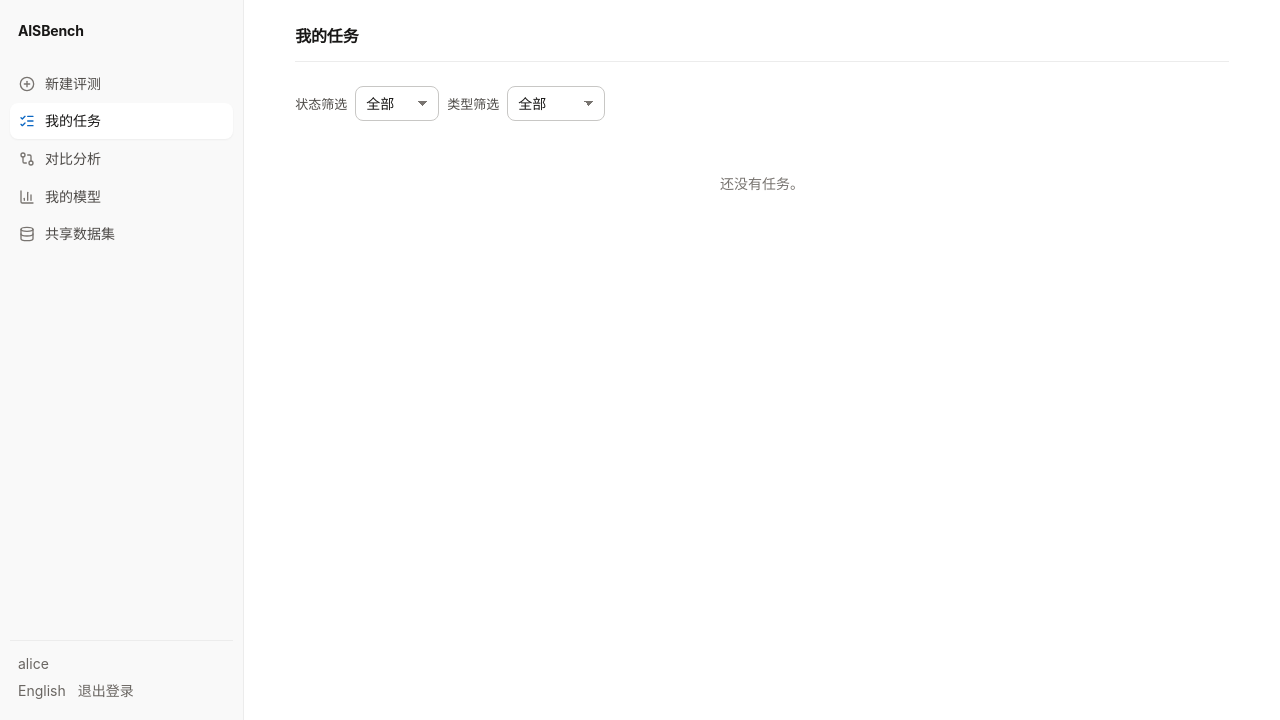
language › starts in Chinese and switches to English
This screenshot has width=1280, height=720.
Expected: the link "新建评测" is shown, [19,75,101,92]
Click the button "English".
click(42, 691)  # box [18,680,66,702]
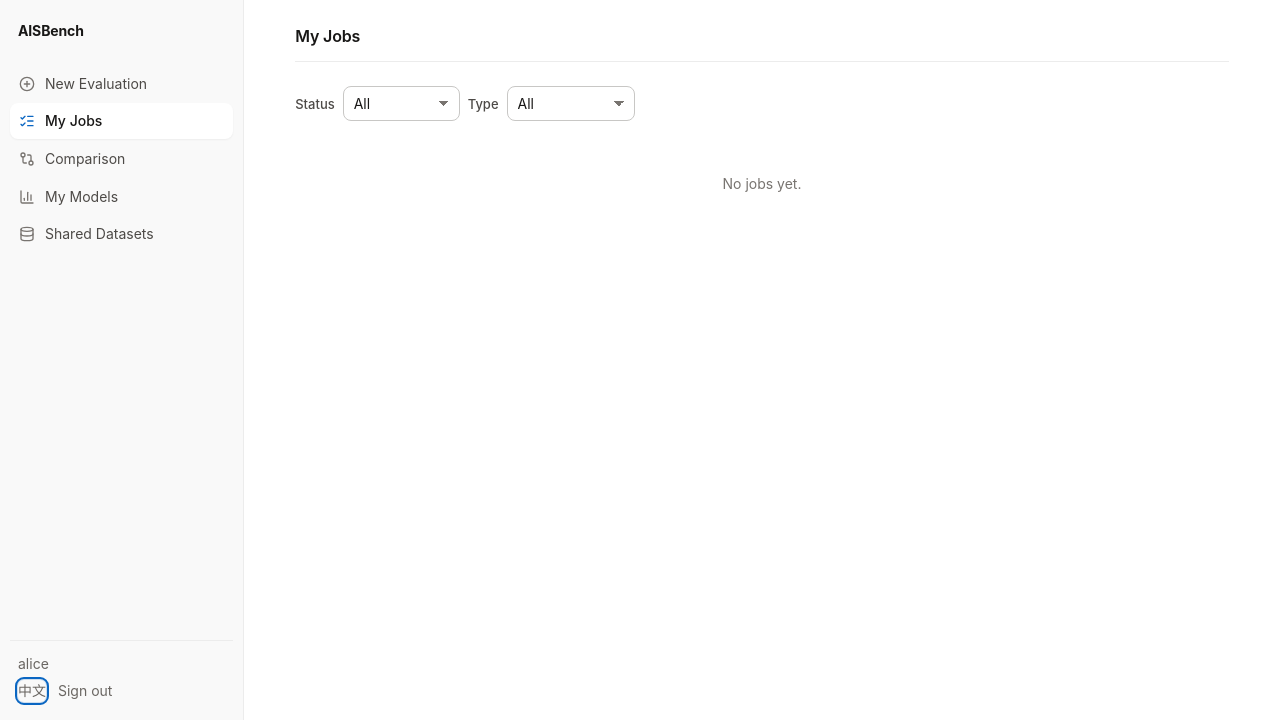
Expected: the link "New Evaluation" is shown, [19,75,147,92]
Expected: the link "新建评测" is gone
